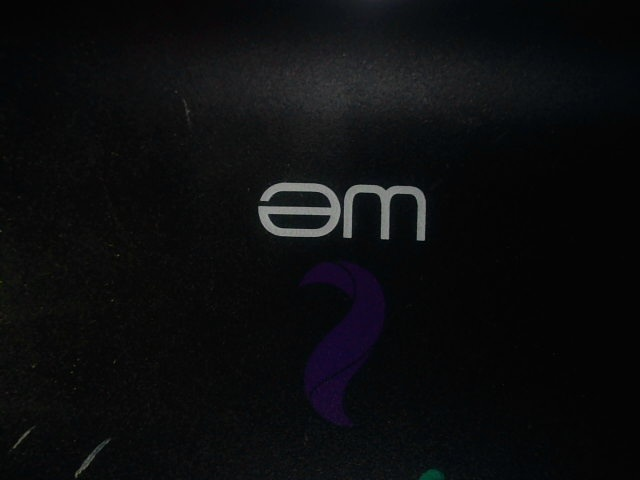AT_We: (234, 177, 435, 435)
